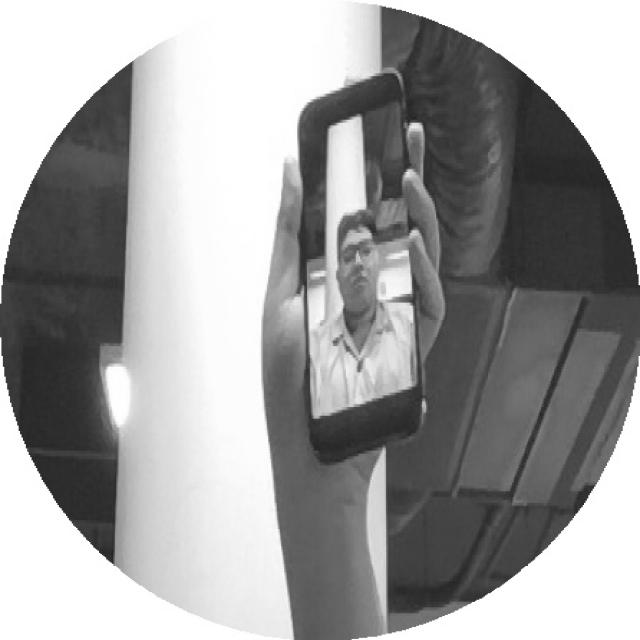fake: (261, 63, 491, 499), (307, 206, 426, 402)
